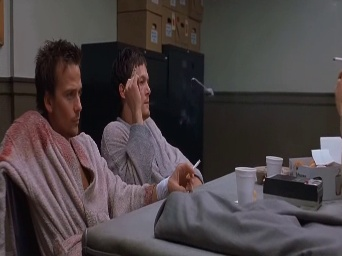smoke: (188, 158, 200, 177)
